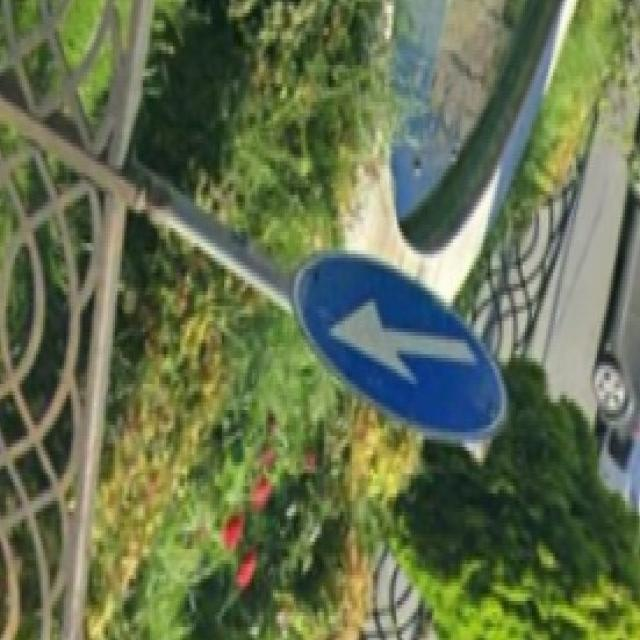Turn Left: (295, 263, 511, 438)
